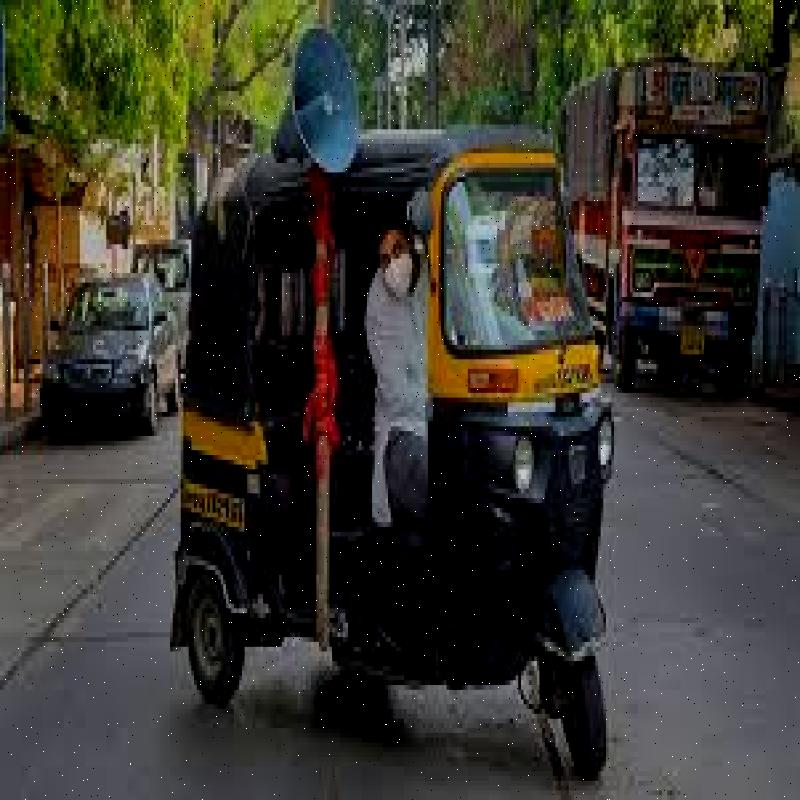bike: (174, 119, 598, 763)
